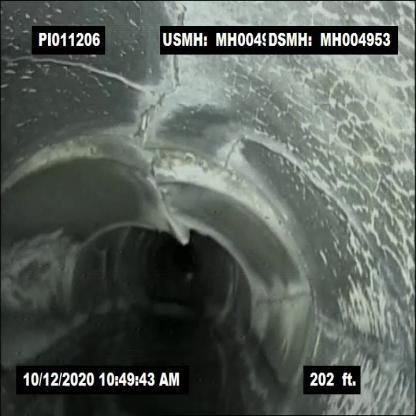Buckling: (86, 124, 264, 233)
Crack: (125, 55, 197, 113)
